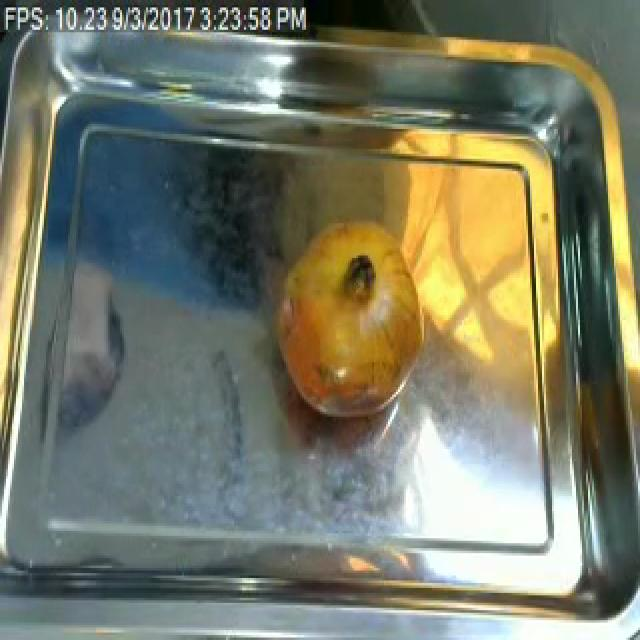fruit: (264, 206, 436, 432)
